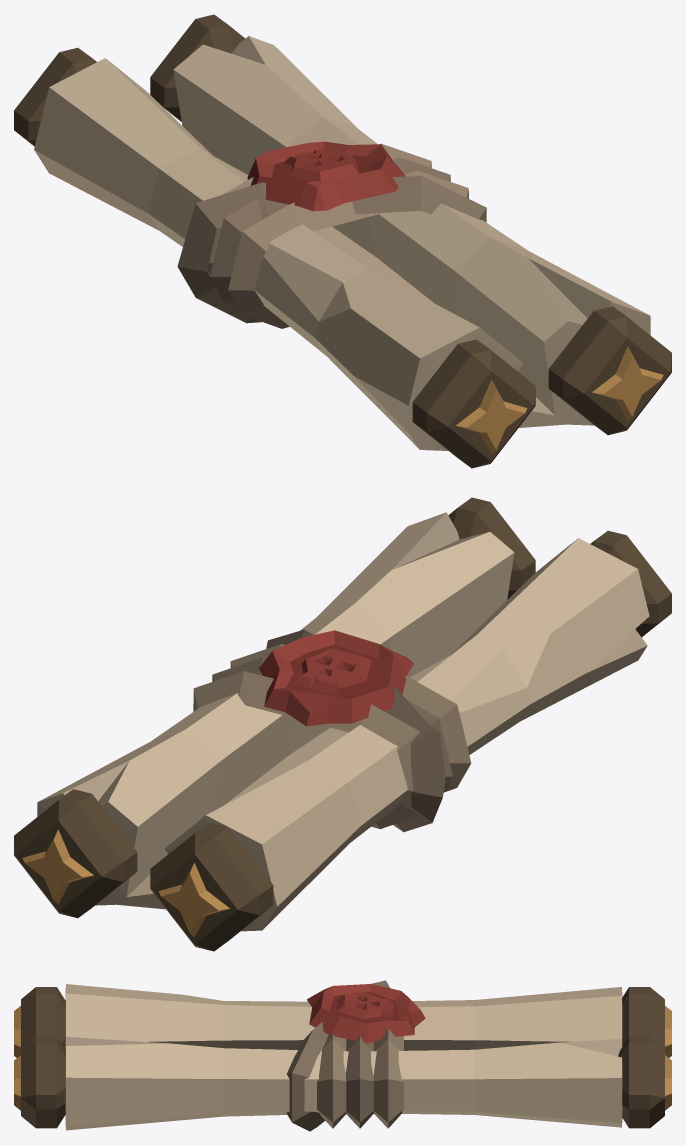
The model's file is SM_Prop_Scroll_02.fbx.
The picture shows the model from 3 angles, top to bottom: view 1: azimuth 30°, elevation 25°; view 2: azimuth 150°, elevation 25°; view 3: azimuth 270°, elevation 25°; orthographic projection. The views are drawn at different scales.
Visible parts, largest first — view 1: SM_Prop_Scroll_02; view 2: SM_Prop_Scroll_02; view 3: SM_Prop_Scroll_02.
Part boxes in pixels (<box>): SM_Prop_Scroll_02: <box>14,14,671,468</box>; SM_Prop_Scroll_02: <box>14,497,671,951</box>; SM_Prop_Scroll_02: <box>14,980,671,1131</box>.
Size of the model in its own units: 39.51 by 22.68 by 118.
